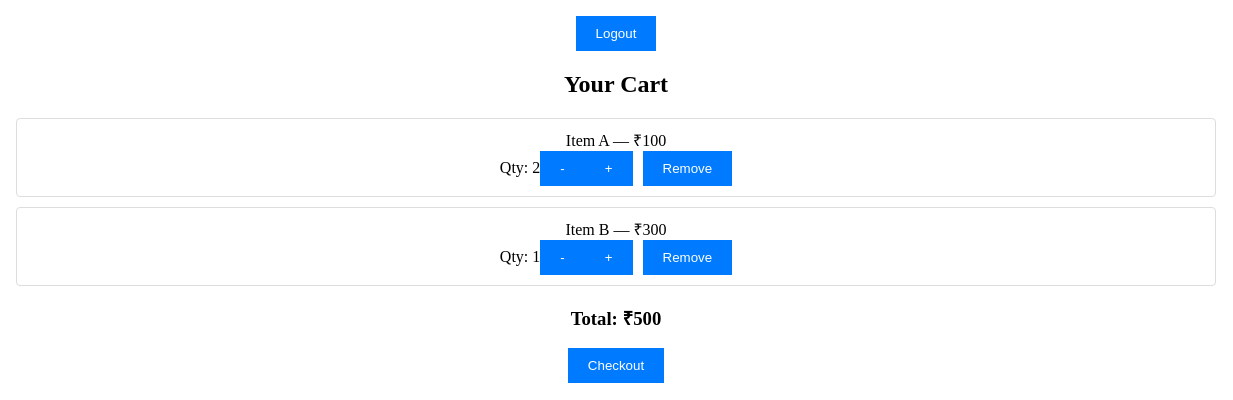
Test: Cart Component › handles checkout success
Click the button "Checkout" at (616, 366), box left=568, top=348, right=664, bottom=383
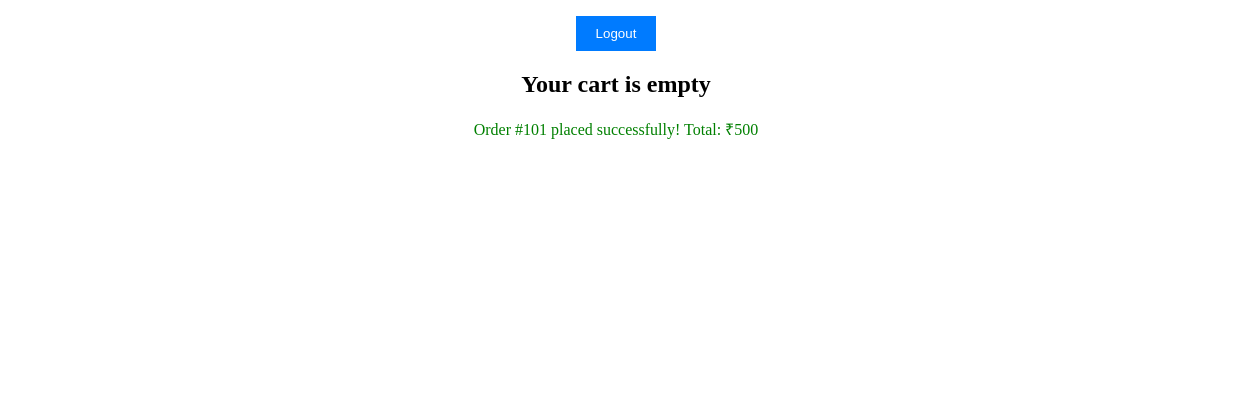
expect the text "Order #101 placed successfully! Total: ₹500" is shown: met, box left=474, top=121, right=758, bottom=138
expect the heading "Your cart is empty" is shown: met, box left=521, top=71, right=711, bottom=97
